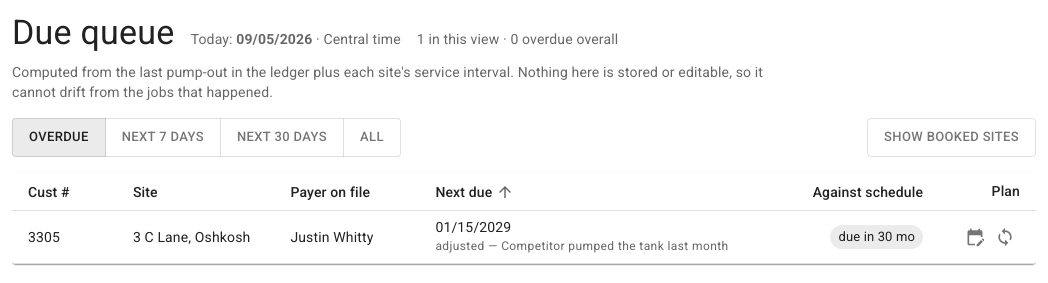
Test: T-SCH-16: an adjusted row is a date with a sentence attached › shows the effective date and the reason, and one action takes the overlay off
Expected: the text "01/15/2029 adjusted — Competitor pumped the tank last month" is shown, [419,211,762,264]
Expected: the text "adjusted — Competitor pumped the tank last month" is shown, [435,237,746,257]
What coordinates should you click on to do the following:
click the button named "return 3 C Lane to schedule"
I would click on:
 (1005, 237)
Its box is [990,222,1020,252].
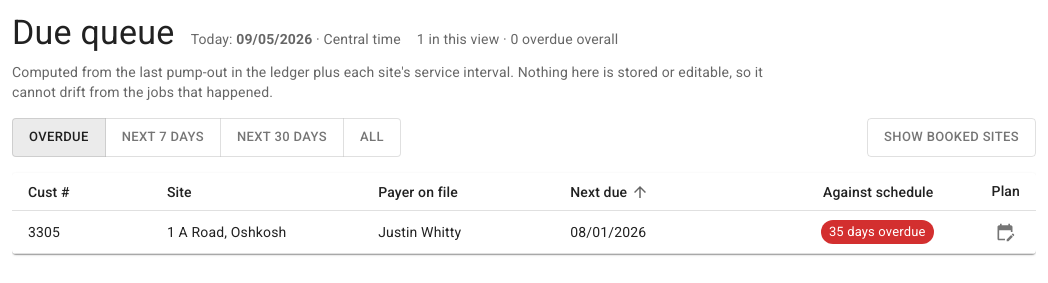
Expected: the text "1 A Road, Oshkosh" is shown, [151,211,362,254]
Expected: the text "adjusted —" is gone
